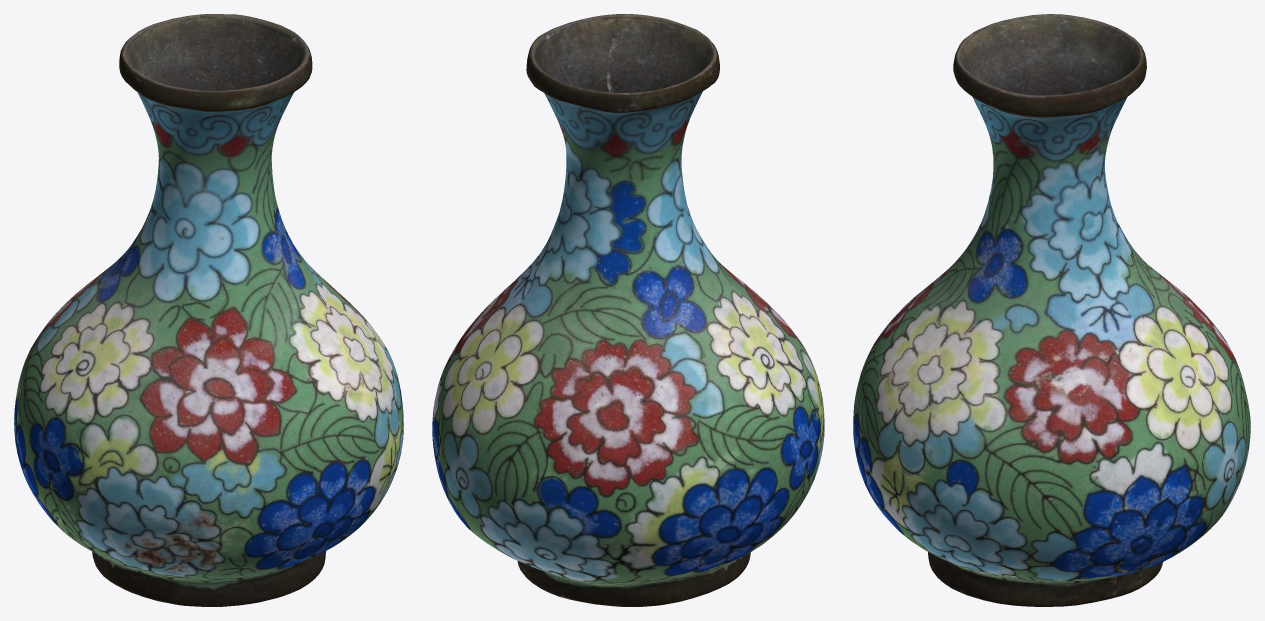
The picture shows the model from 3 angles, left to right: view 1: azimuth 30°, elevation 25°; view 2: azimuth 150°, elevation 25°; view 3: azimuth 270°, elevation 25°; orthographic projection.
Parts seen in each view (by area): view 1: Object_2; view 2: Object_2; view 3: Object_2.
Part boxes in pixels (<box>): Object_2: <box>14,14,403,606</box>; Object_2: <box>432,14,824,606</box>; Object_2: <box>853,14,1250,606</box>.
Size of the model in its own units: 0.1164 by 0.1665 by 0.1175.
Materials: 1 (1 with a texture image).
